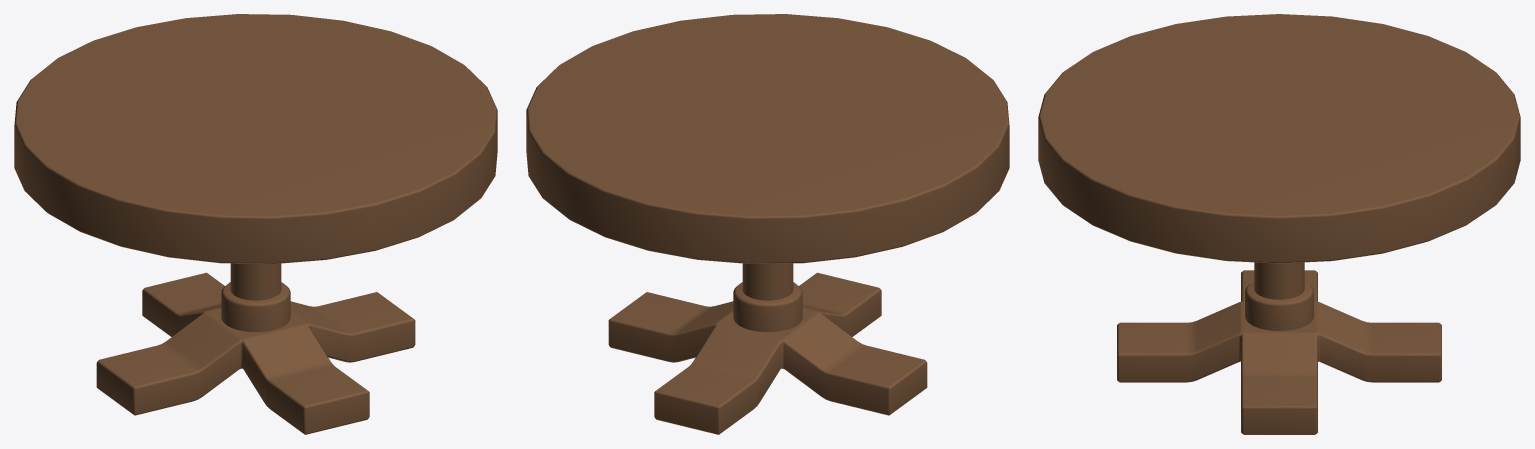
The model's file is RoundTable_brown.glb.
3 views of the same model, side by side, from view 1: azimuth 30°, elevation 25°; view 2: azimuth 150°, elevation 25°; view 3: azimuth 270°, elevation 25° (orthographic).
Parts seen in each view (by area): view 1: Table_13; view 2: Table_13; view 3: Table_13.
Part boxes in pixels (x1,y1,x2,y2): Table_13: (14,14,497,434); Table_13: (526,14,1009,434); Table_13: (1038,14,1520,434).
Size of the model in its own units: 1.56 by 0.9002 by 1.56.
Materials: 1 (1 with a texture image).
